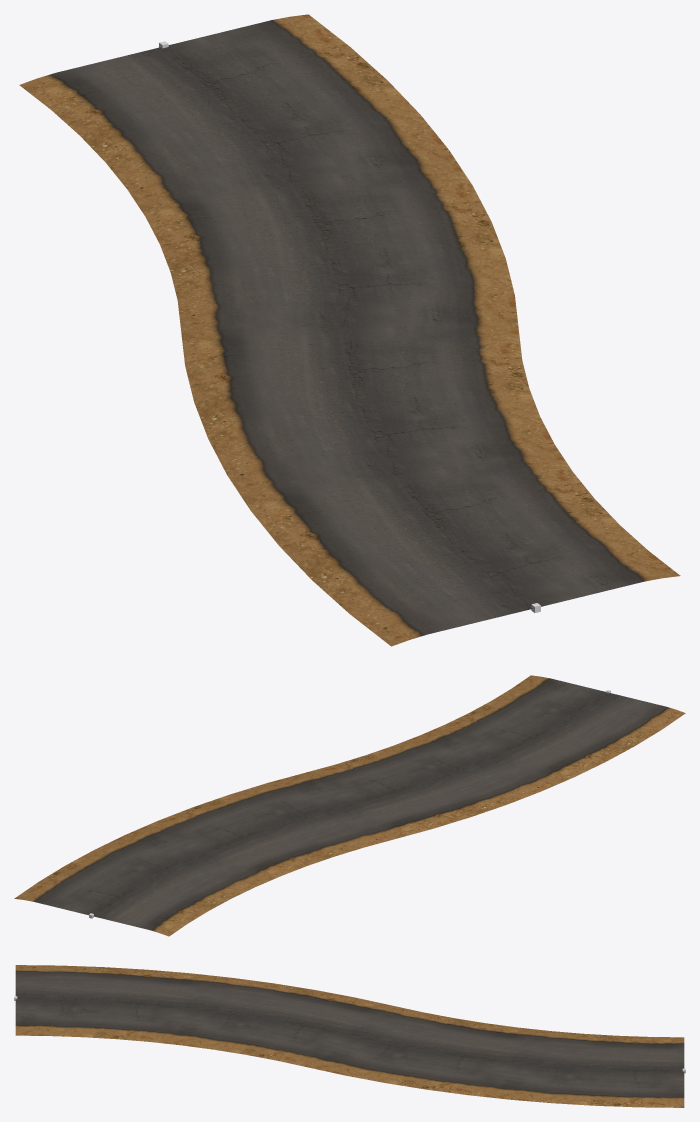
The model's file is roadShift.right2.fbx.
3 views of the same model, one above another, from view 1: azimuth 30°, elevation 25°; view 2: azimuth 150°, elevation 25°; view 3: azimuth 270°, elevation 25° (orthographic). The views are drawn at different scales.
Parts seen in each view (by area): view 1: MESH roadShift.right2; view 2: MESH roadShift.right2; view 3: MESH roadShift.right2.
Part boxes in pixels (x1,y1,x2,y2): MESH roadShift.right2: (19,14,680,646); MESH roadShift.right2: (14,675,685,936); MESH roadShift.right2: (15,965,684,1107).
Size of what is drawn, in the model's own units: 4856 by 50.77 by 9650.
